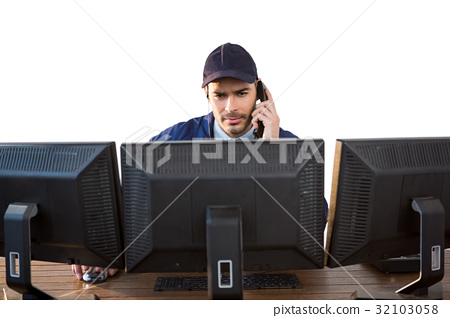phone: (257, 82, 279, 136)
talk: (213, 80, 282, 142)
